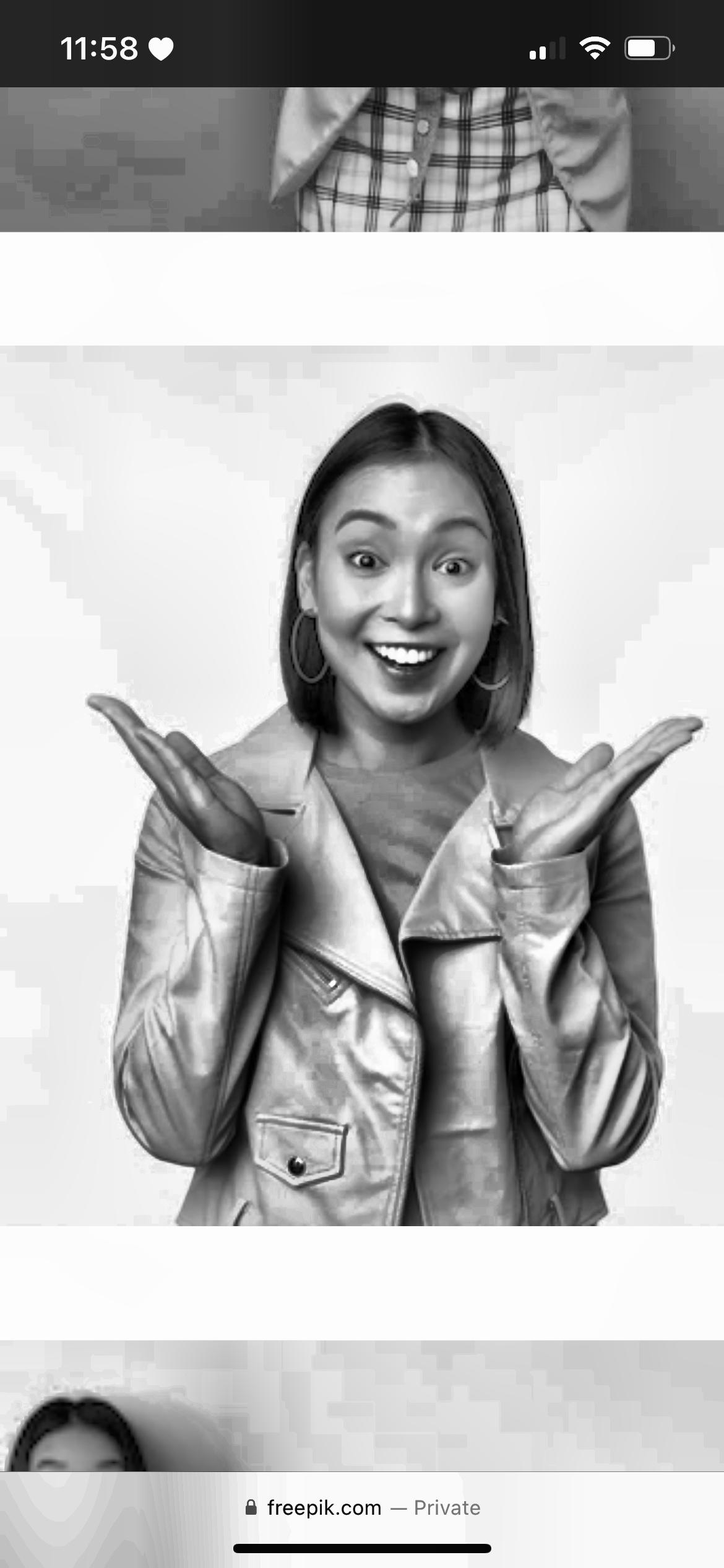surprised: (314, 444, 526, 764)
